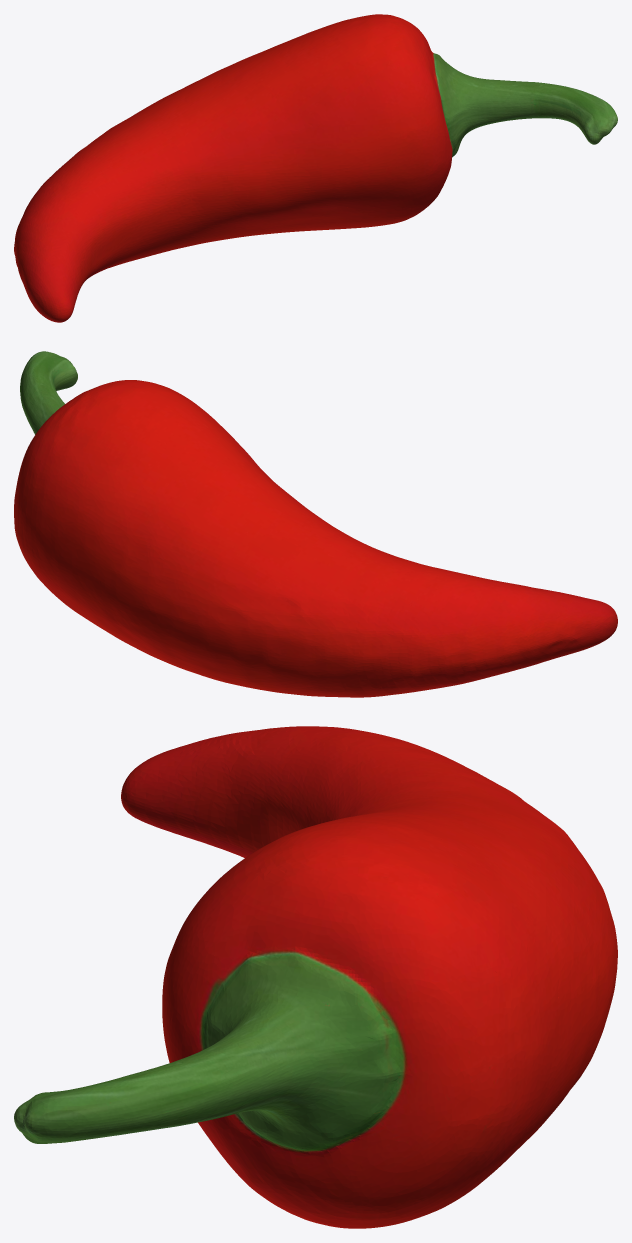
The model's file is toy_red_chili_pepper___plastic_red_vegetable_with_green_stem_mrqtar.glb.
3 renders of one model, top to bottom at view 1: azimuth 30°, elevation 25°; view 2: azimuth 150°, elevation 25°; view 3: azimuth 270°, elevation 25°, orthographic. The views are drawn at different scales.
Parts seen in each view (by area): view 1: world; view 2: world; view 3: world.
Boxes of the visible parts, bbox=[...] form: world: bbox=[14, 14, 617, 322]; world: bbox=[14, 351, 617, 697]; world: bbox=[14, 726, 617, 1228].
Size of the model in its own units: 0.0964 by 0.0339 by 0.0489.
1 material, 1 textured.
